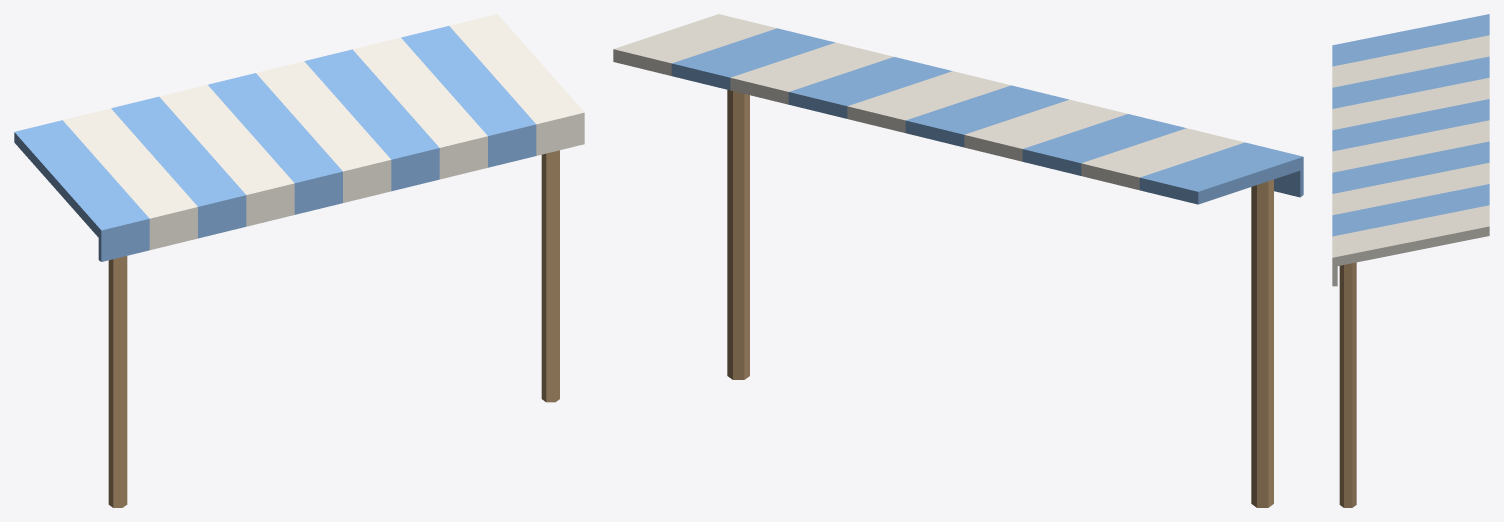
The model's file is awning_w4_8_sky.glb.
The picture shows the model from 3 angles, left to right: view 1: azimuth 30°, elevation 25°; view 2: azimuth 150°, elevation 25°; view 3: azimuth 270°, elevation 25°; orthographic projection. The views are drawn at different scales.
Parts seen in each view (by area): view 1: Player; view 2: Player; view 3: Player.
Boxes of the visible parts, x1,y1,x2,y2 form: Player: (14,14,584,507); Player: (613,14,1303,507); Player: (1332,14,1489,507).
Bounding box in the file's own units: 4.8 × 3.05 × 1.5.
